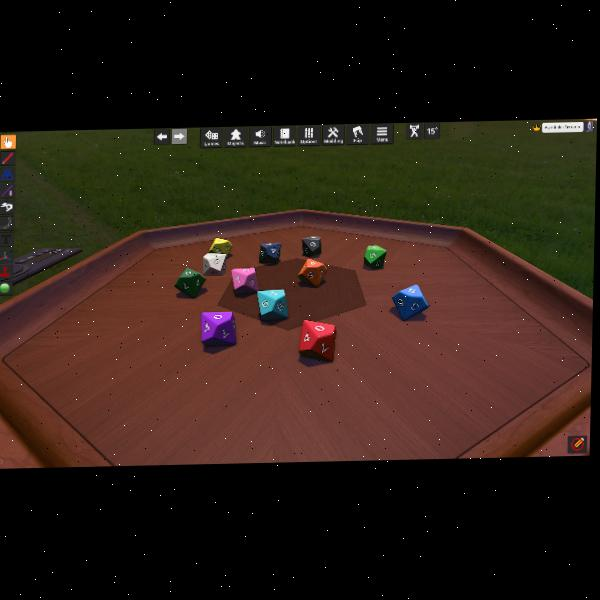d10: (298, 318, 335, 361), (392, 283, 428, 321), (201, 311, 236, 347), (257, 289, 289, 321), (174, 267, 205, 298), (298, 257, 326, 287), (231, 266, 258, 293), (203, 252, 227, 276), (364, 244, 386, 269), (208, 236, 233, 256), (258, 242, 280, 264), (302, 235, 321, 257)
